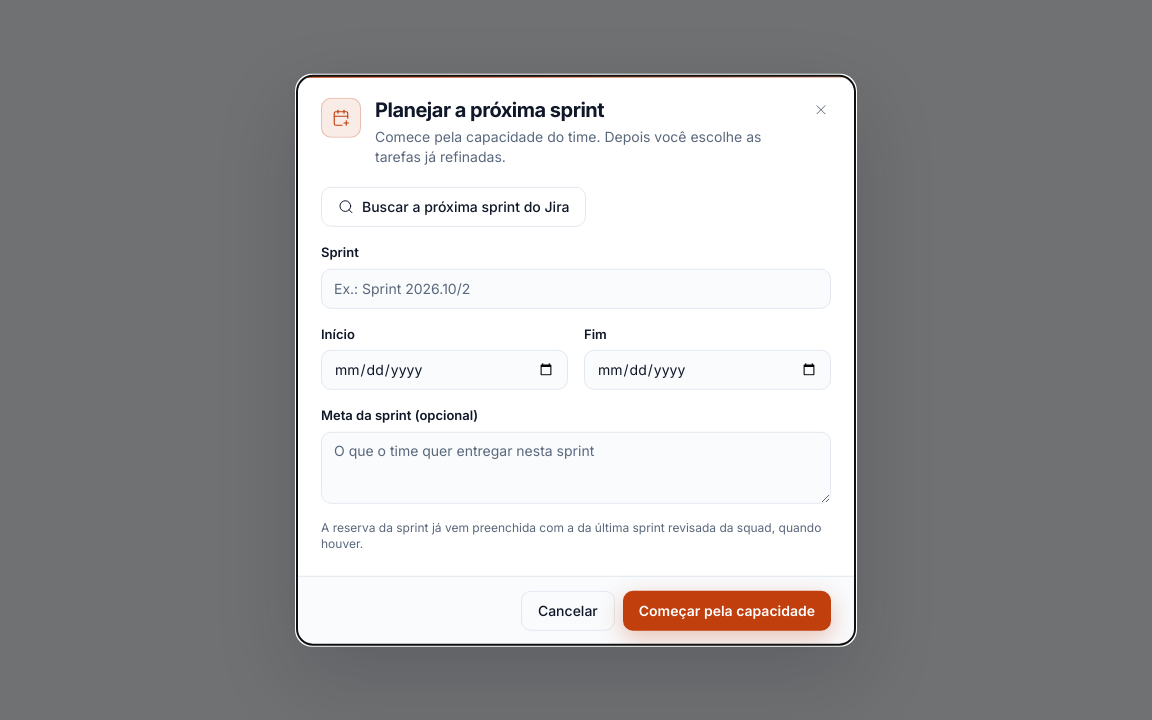
Criar plano: próxima sprint do Jira › erro 400 mostra a mensagem do servidor
Click the button "Buscar a próxima sprint do Jira".
click(454, 207)  # box x1=321 y1=187 x2=586 y2=227
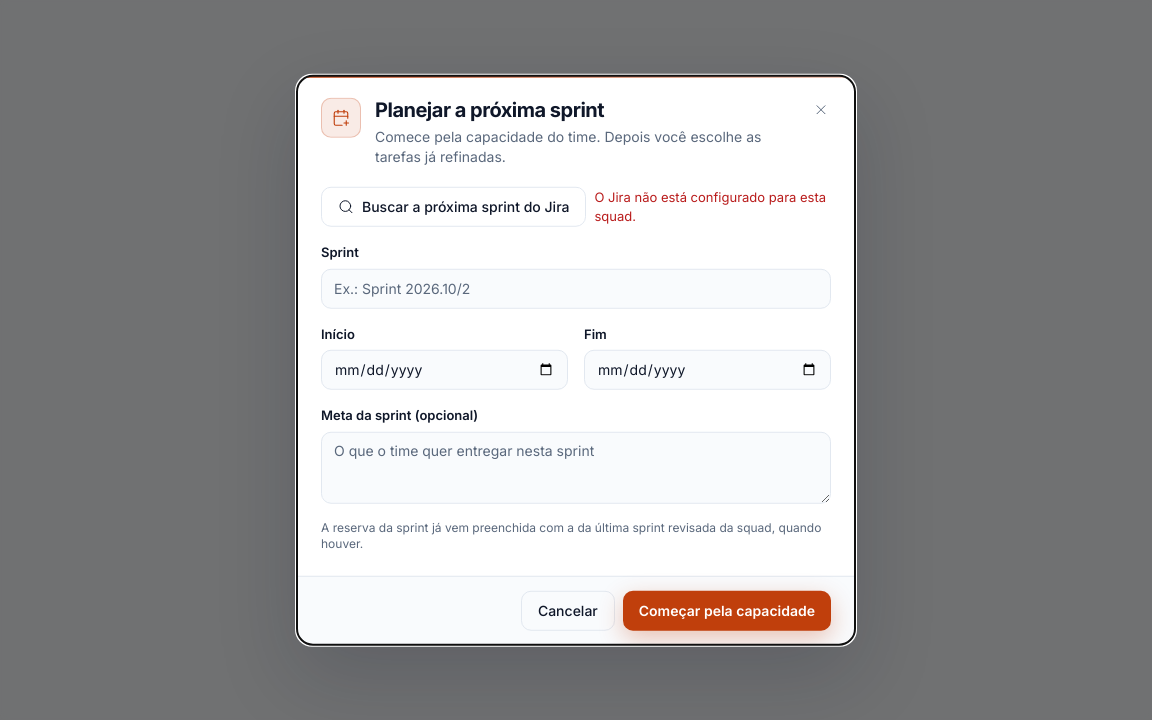
Expected: the message with test id "proxima-sprint-aviso" reads "O Jira não está configurado para esta squad.", x1=594 y1=188 x2=826 y2=224
